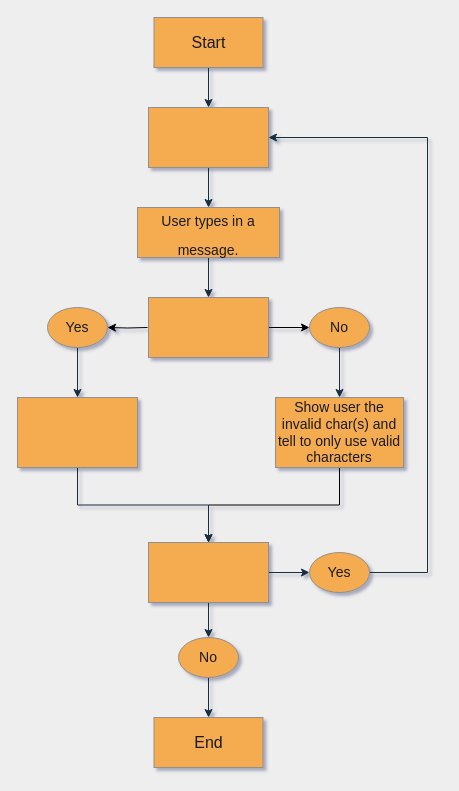
The diagram is 459 pixels wide and 791 high, and some of its shapes have lost their labels. Each missing label, with the box of its shape:
Ask user if they want to type a new message: (148, 542, 268, 602)
Display to user the characters to use only: (148, 106, 268, 168)
Do all characters have Morse code?: (148, 296, 268, 358)
Message gets converted to Morse code and shown to user: (16, 396, 138, 468)
